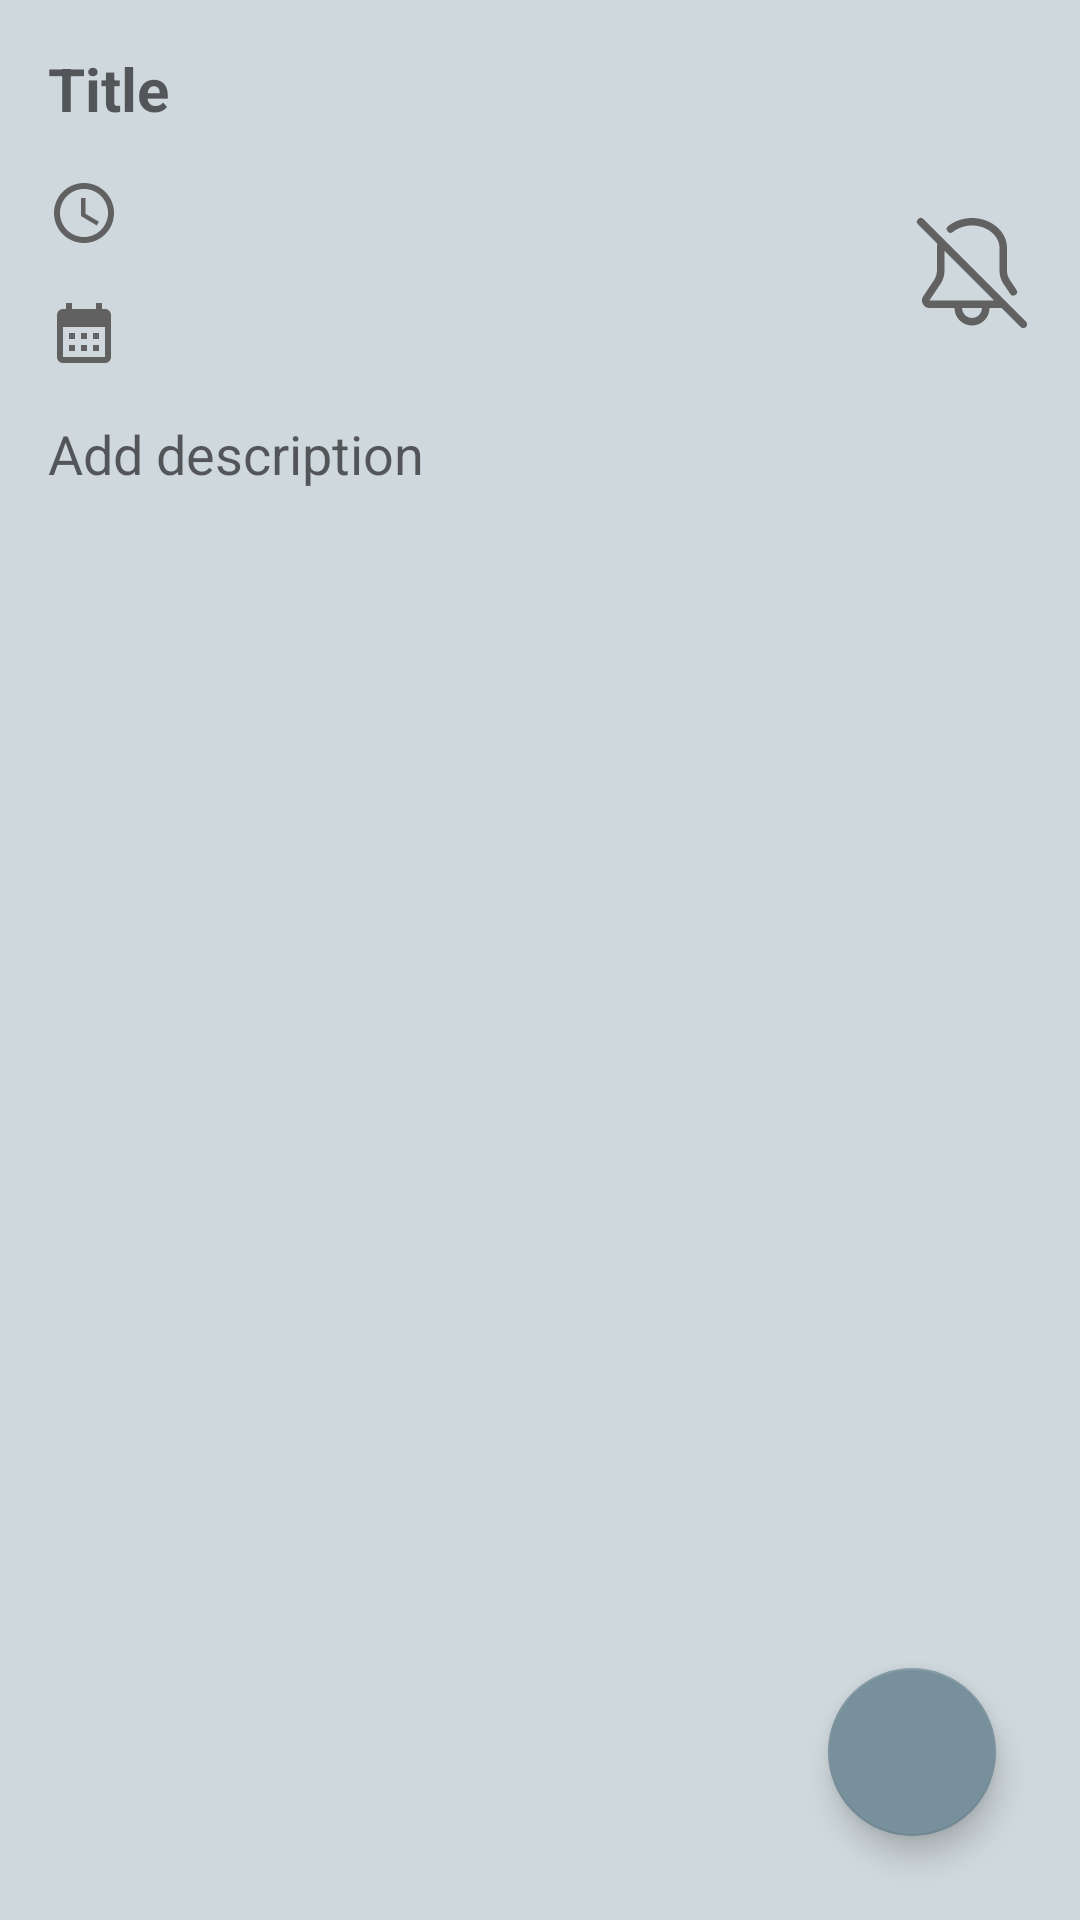

Icons on this 1080*1920 Android screen, each with the point to tap as point (x, y):
no ring: point (972, 273)
